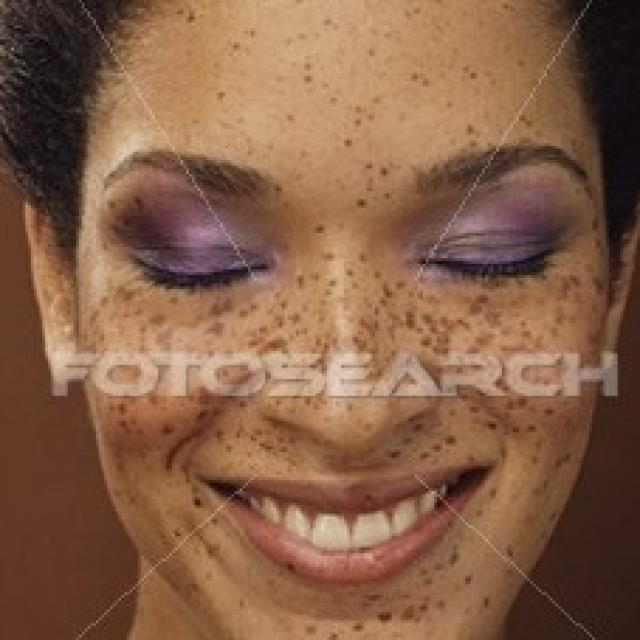Eyeclosed: (419, 226, 549, 294), (125, 243, 266, 303)
